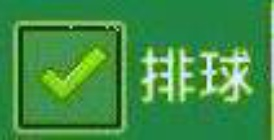CheckBox: (1, 1, 273, 139)
